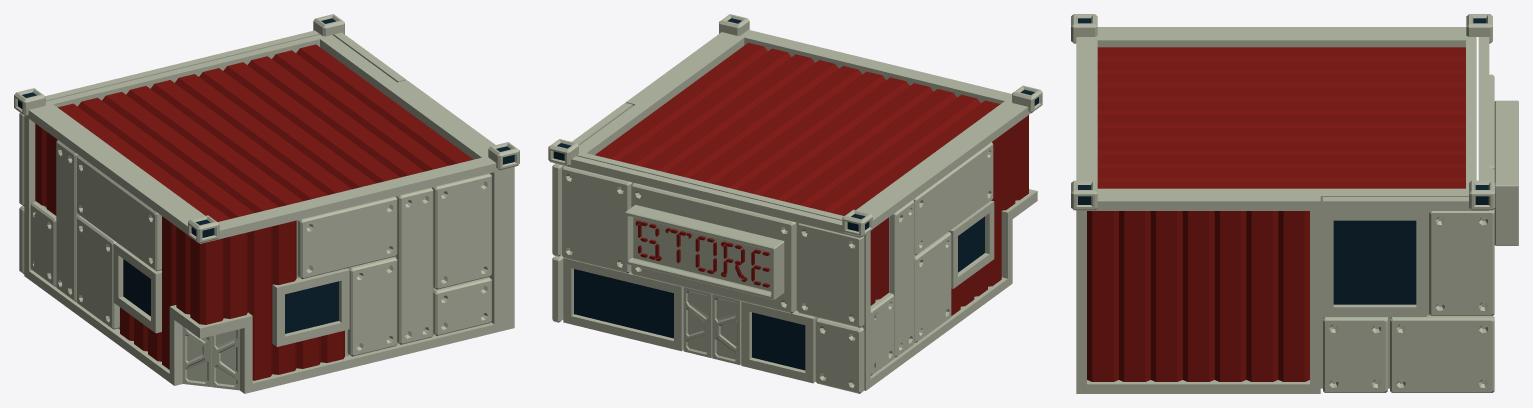
The model's file is Shop Alternative.fbx.
3 views of the same model, side by side, from view 1: azimuth 30°, elevation 25°; view 2: azimuth 150°, elevation 25°; view 3: azimuth 270°, elevation 25° (orthographic). The views are drawn at different scales.
Visible parts, largest first — view 1: Store_With _Ceiling; view 2: Store_With _Ceiling; view 3: Store_With _Ceiling.
Part boxes in pixels (x1=…): Store_With _Ceiling: x1=14, y1=14, x2=519, y2=393; Store_With _Ceiling: x1=548, y1=14, x2=1042, y2=393; Store_With _Ceiling: x1=1071, y1=14, x2=1518, y2=393.
Bounding box in the file's own units: 997 × 531 × 1054.
